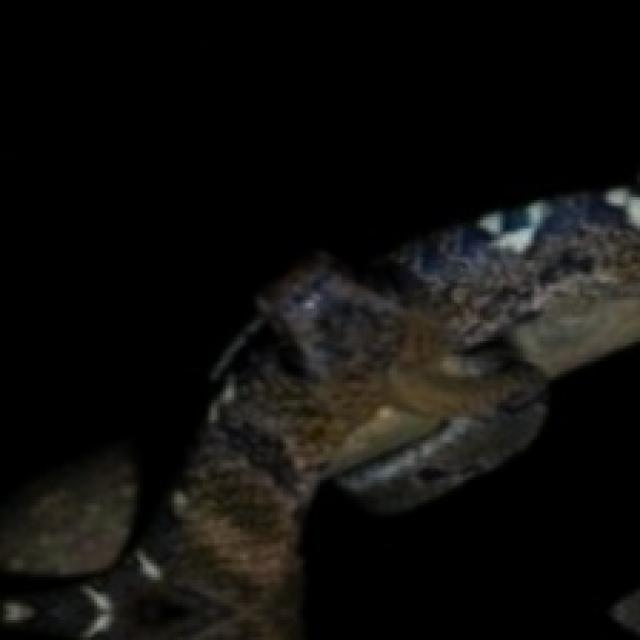dog-toothed cat snake: (0, 189, 637, 637)
